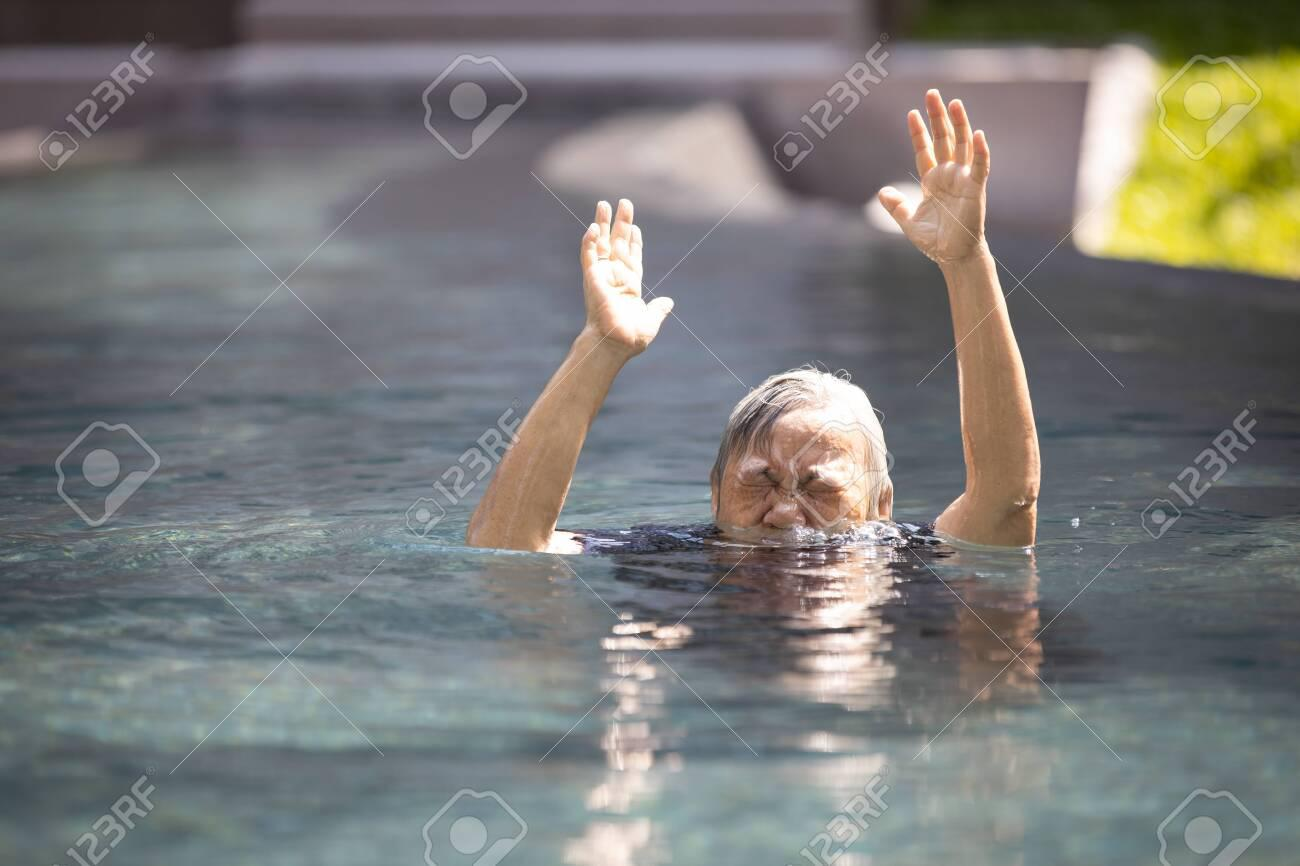drowning: (415, 102, 1105, 584)
